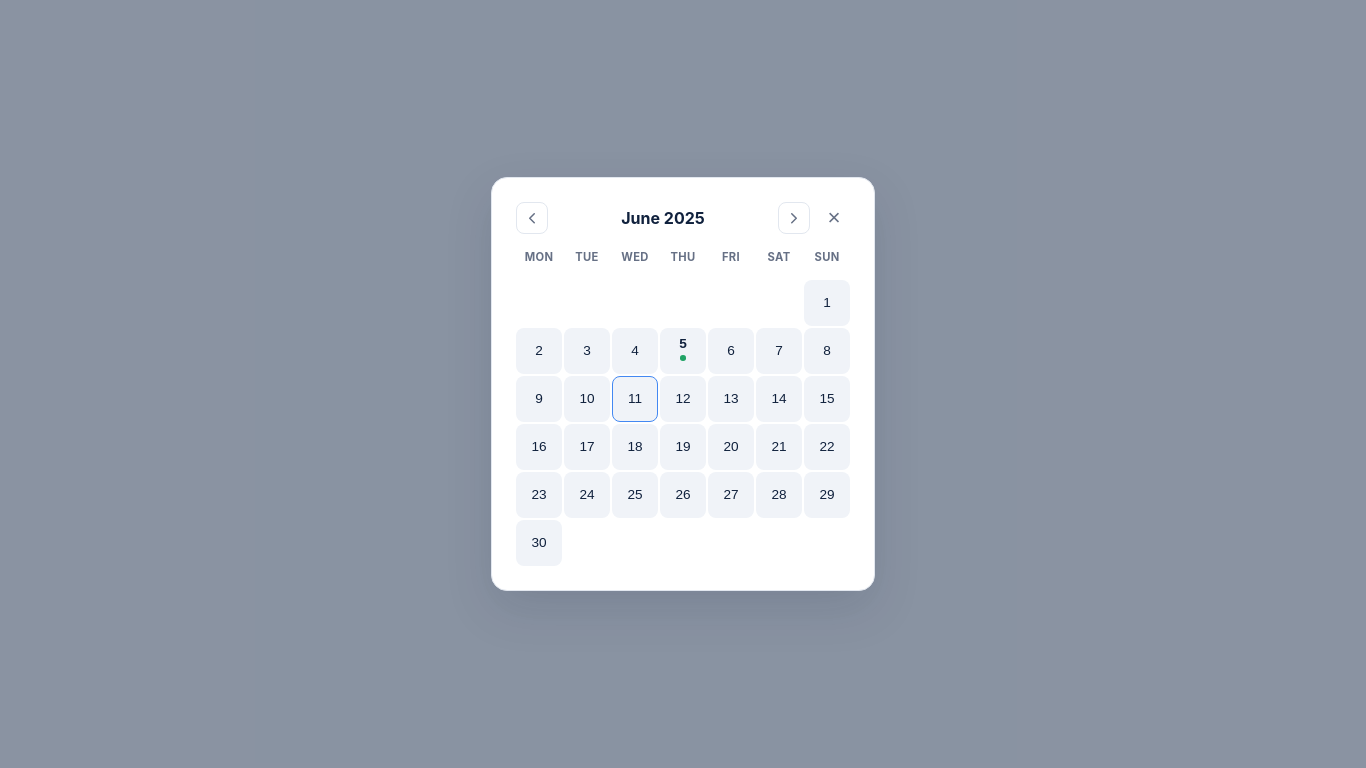
Test: ApplicationCalendarPopover › shows status as both a colored badge and text (never color-only)
Click the cell with class "calendar-cell--day" showing "5".
click(683, 351)  # box [660,328,706,374]
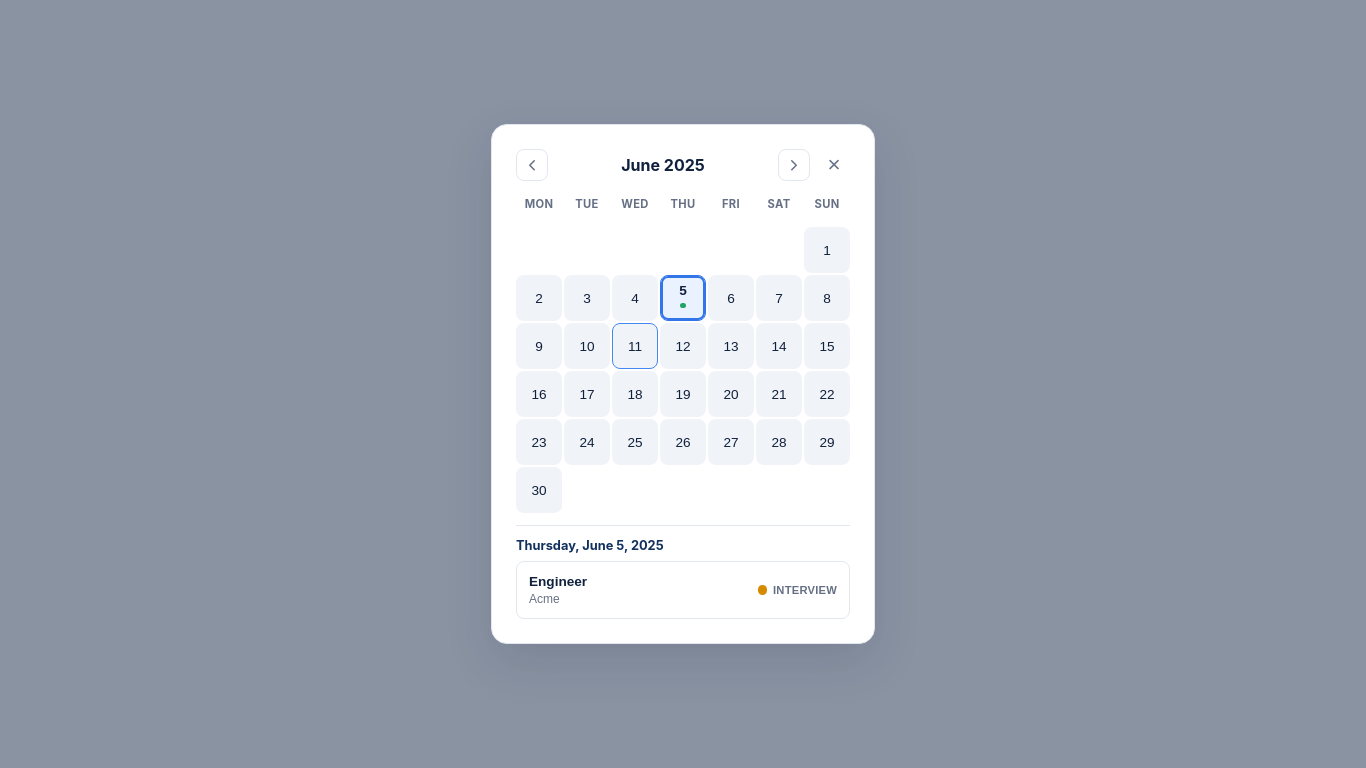
Now the element with class "calendar-app-badge--interview" is shown, box [758,585,767,595]
Now the text with class "calendar-app-status-text" reads "Interview", box [773,584,837,596]
